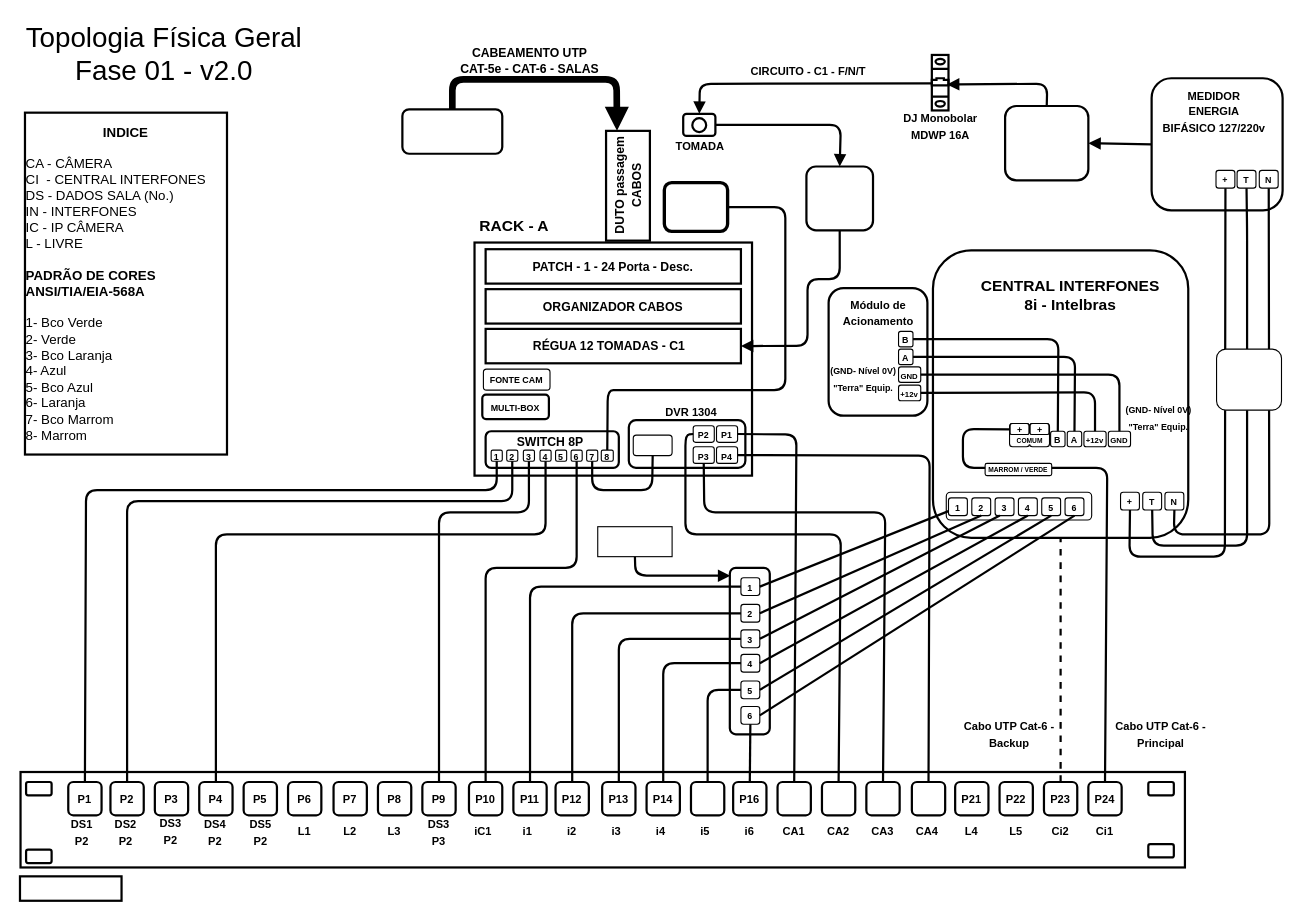
This 1303x920 diagram has some shape labels left out. Here are the shapes that lost their labels. From the top down, the centre of each, then its label:
the point at 452,131: Duto/ Intermediário
the point at 1046,142: QUADRO ENERGIA
the point at 695,206: ROTEADOR
the point at 839,198: NO-BREAK
the point at 1248,379: Fonte Intelbras Quadro Shaft
the point at 652,445: LAN1
the point at 634,541: CONECTOR WAGO
the point at 707,798: P15
the point at 793,798: P17
the point at 838,798: P18
the point at 882,798: P19
the point at 928,798: P20
the point at 70,888: Patch Panel -1
